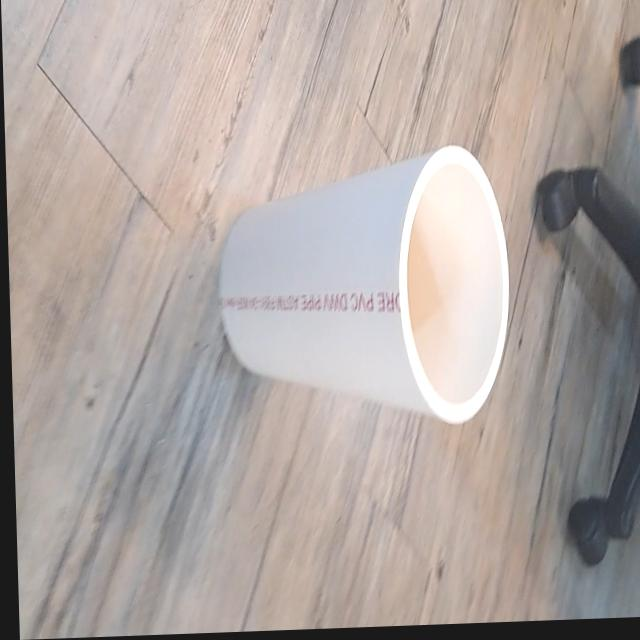CORAL: (206, 130, 520, 454)
